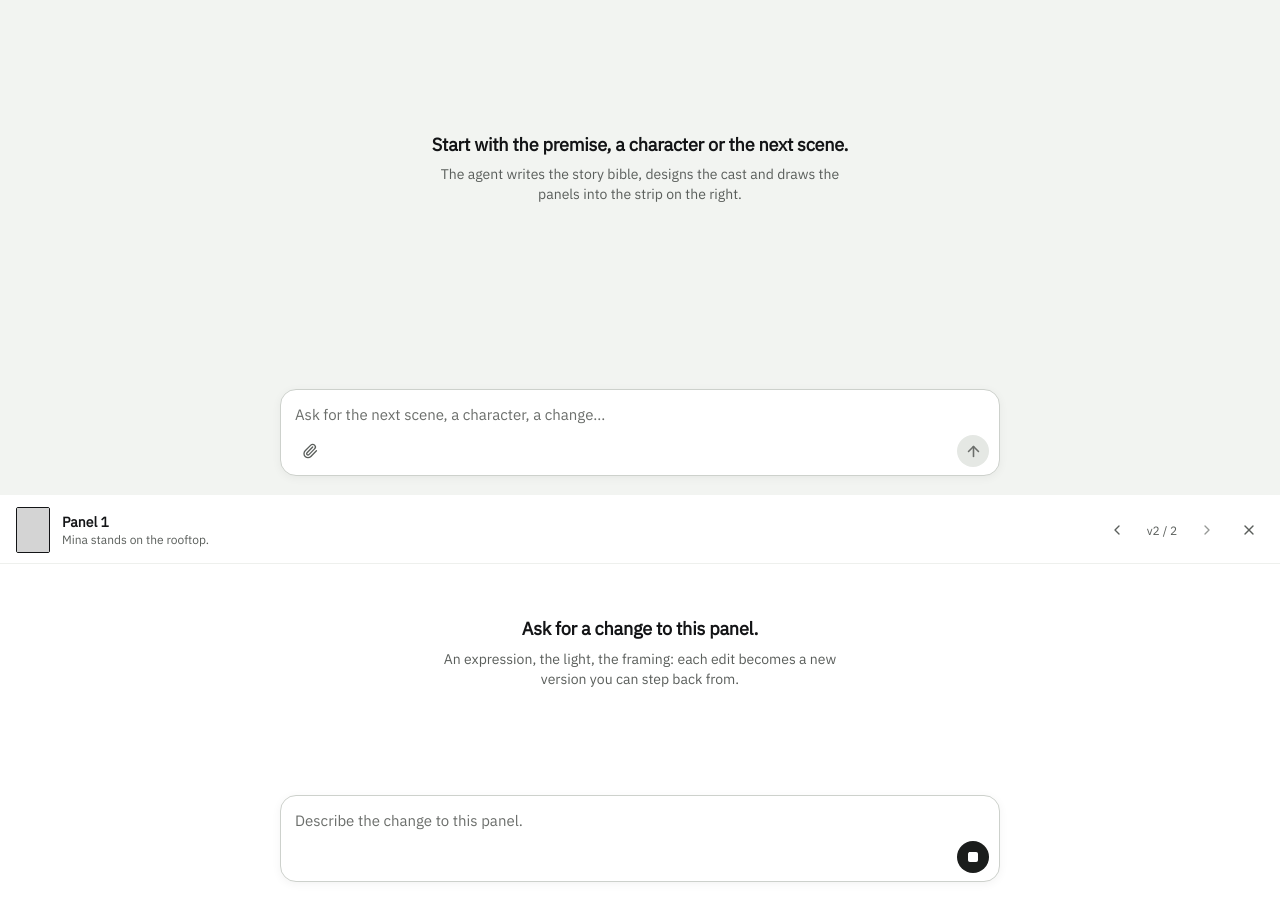
Scenario: PanelSideChat › shows a failed stop as a notice
The width and height of the screenshot is (1280, 900).
Click the button with test id "composer-stop" at (973,857), box [957,841,989,873]
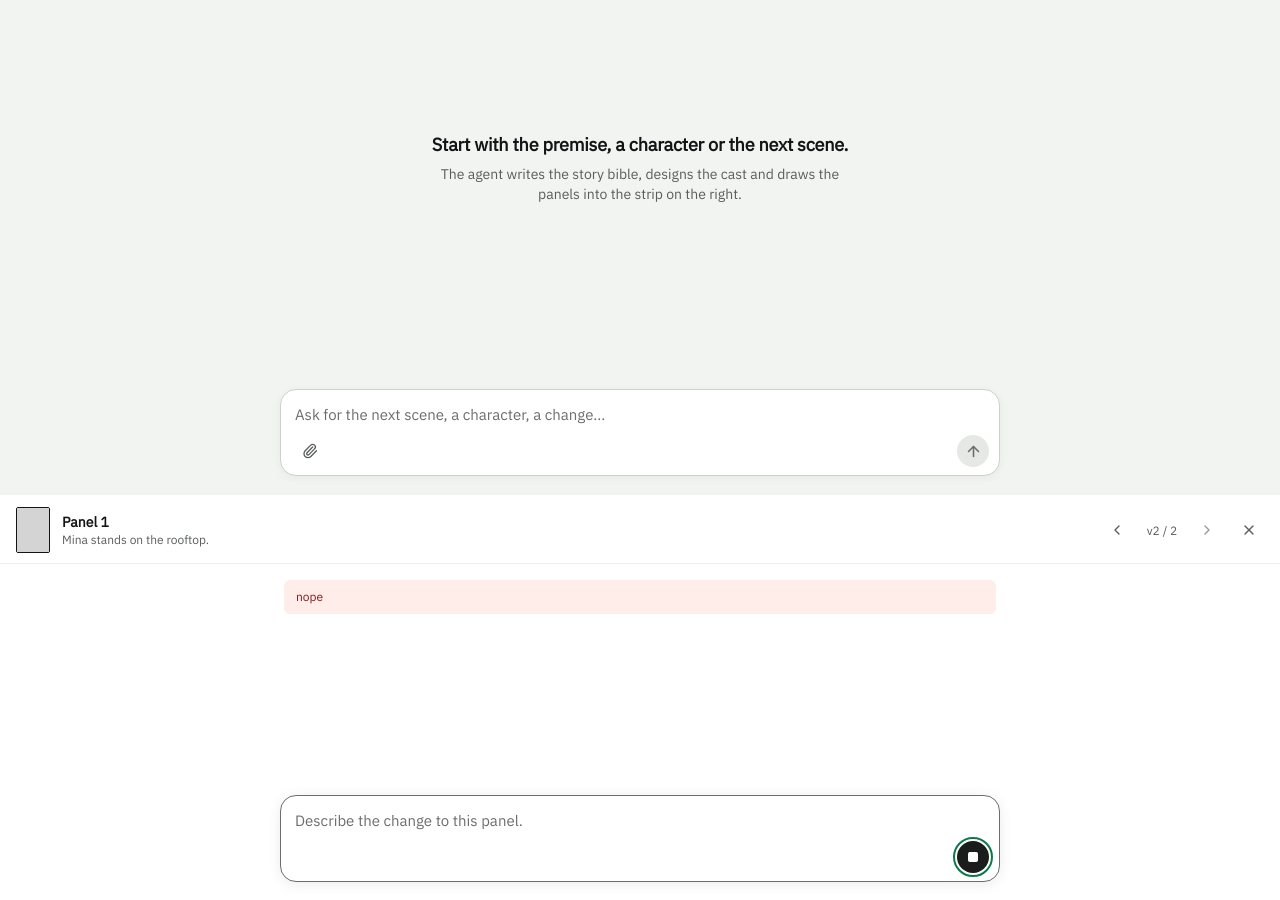
Expected: the message reads "nope", [296,590,323,604]
